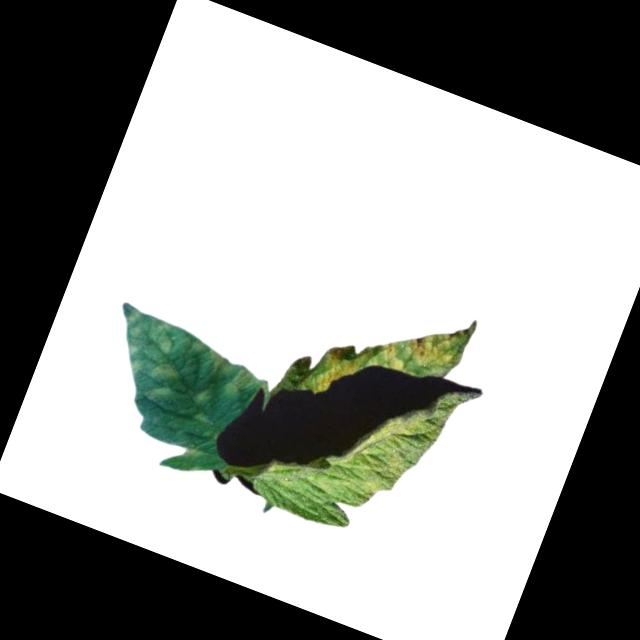Leaf_Mold: (94, 303, 263, 434), (306, 328, 376, 405), (400, 313, 466, 377), (378, 336, 409, 371)
